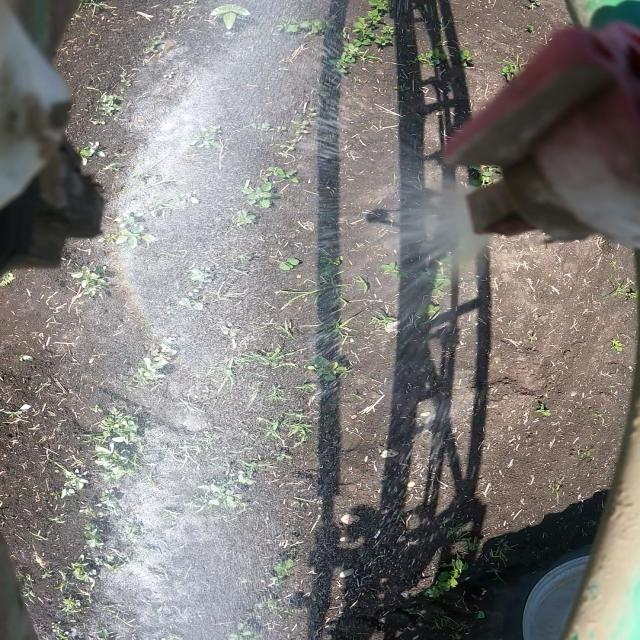plants: (281, 273, 353, 320), (124, 342, 176, 388), (410, 560, 464, 600), (87, 407, 142, 444), (278, 110, 320, 158), (264, 409, 318, 446), (192, 481, 250, 515), (56, 265, 114, 297), (77, 84, 126, 120), (475, 537, 516, 580), (420, 267, 470, 300), (171, 427, 215, 464), (93, 445, 136, 481), (107, 213, 153, 246), (310, 356, 352, 391), (49, 466, 94, 498), (244, 343, 300, 368), (205, 4, 250, 35), (251, 590, 302, 615), (331, 48, 379, 74), (222, 457, 268, 482), (238, 178, 280, 205), (183, 123, 224, 150), (405, 302, 451, 326), (426, 614, 472, 638), (350, 23, 397, 46), (276, 16, 326, 37), (99, 482, 128, 516), (182, 266, 234, 284), (76, 138, 113, 163), (261, 558, 301, 580), (15, 572, 42, 604), (604, 279, 640, 303), (64, 562, 92, 592), (469, 163, 502, 188), (80, 525, 112, 550), (409, 50, 447, 71), (170, 293, 209, 313), (497, 56, 528, 81), (540, 474, 564, 506), (264, 163, 302, 183), (90, 554, 128, 574), (228, 205, 264, 226), (220, 620, 256, 640), (369, 312, 406, 331), (135, 37, 164, 60), (376, 259, 410, 278), (211, 322, 243, 342), (70, 1, 112, 16), (167, 187, 202, 205), (265, 382, 295, 403), (48, 622, 82, 640), (54, 595, 86, 614), (272, 256, 304, 275), (246, 120, 280, 136), (455, 47, 478, 69), (75, 502, 104, 519), (387, 81, 418, 96), (354, 274, 377, 294), (568, 446, 600, 460), (604, 337, 628, 355), (451, 535, 478, 548), (96, 625, 119, 640), (358, 9, 384, 22), (604, 259, 634, 270), (44, 512, 69, 525), (534, 402, 552, 420), (0, 272, 20, 288), (365, 0, 394, 11), (578, 516, 600, 530), (321, 254, 346, 266), (0, 405, 21, 419), (591, 409, 610, 424), (514, 0, 543, 9), (468, 606, 488, 619), (499, 316, 518, 329), (106, 163, 136, 171), (265, 449, 288, 459), (526, 330, 542, 343), (519, 24, 535, 34)
